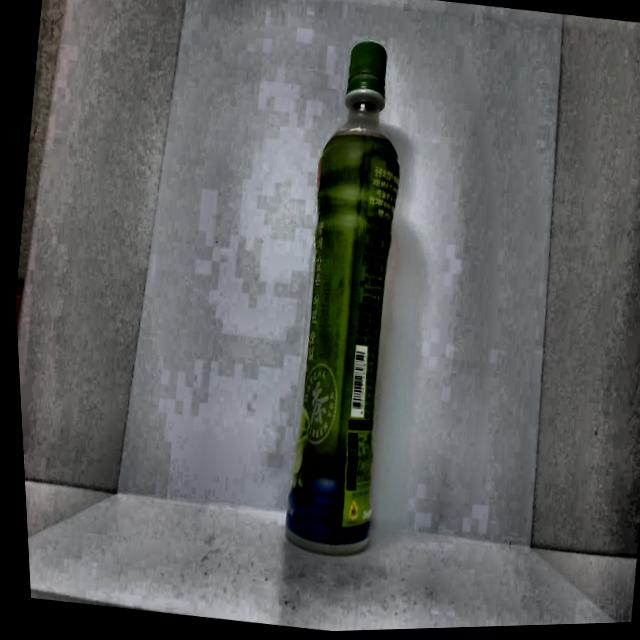Bottles: (238, 5, 478, 583)
